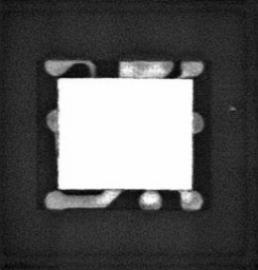DIE_INK: (228, 103, 237, 112)
